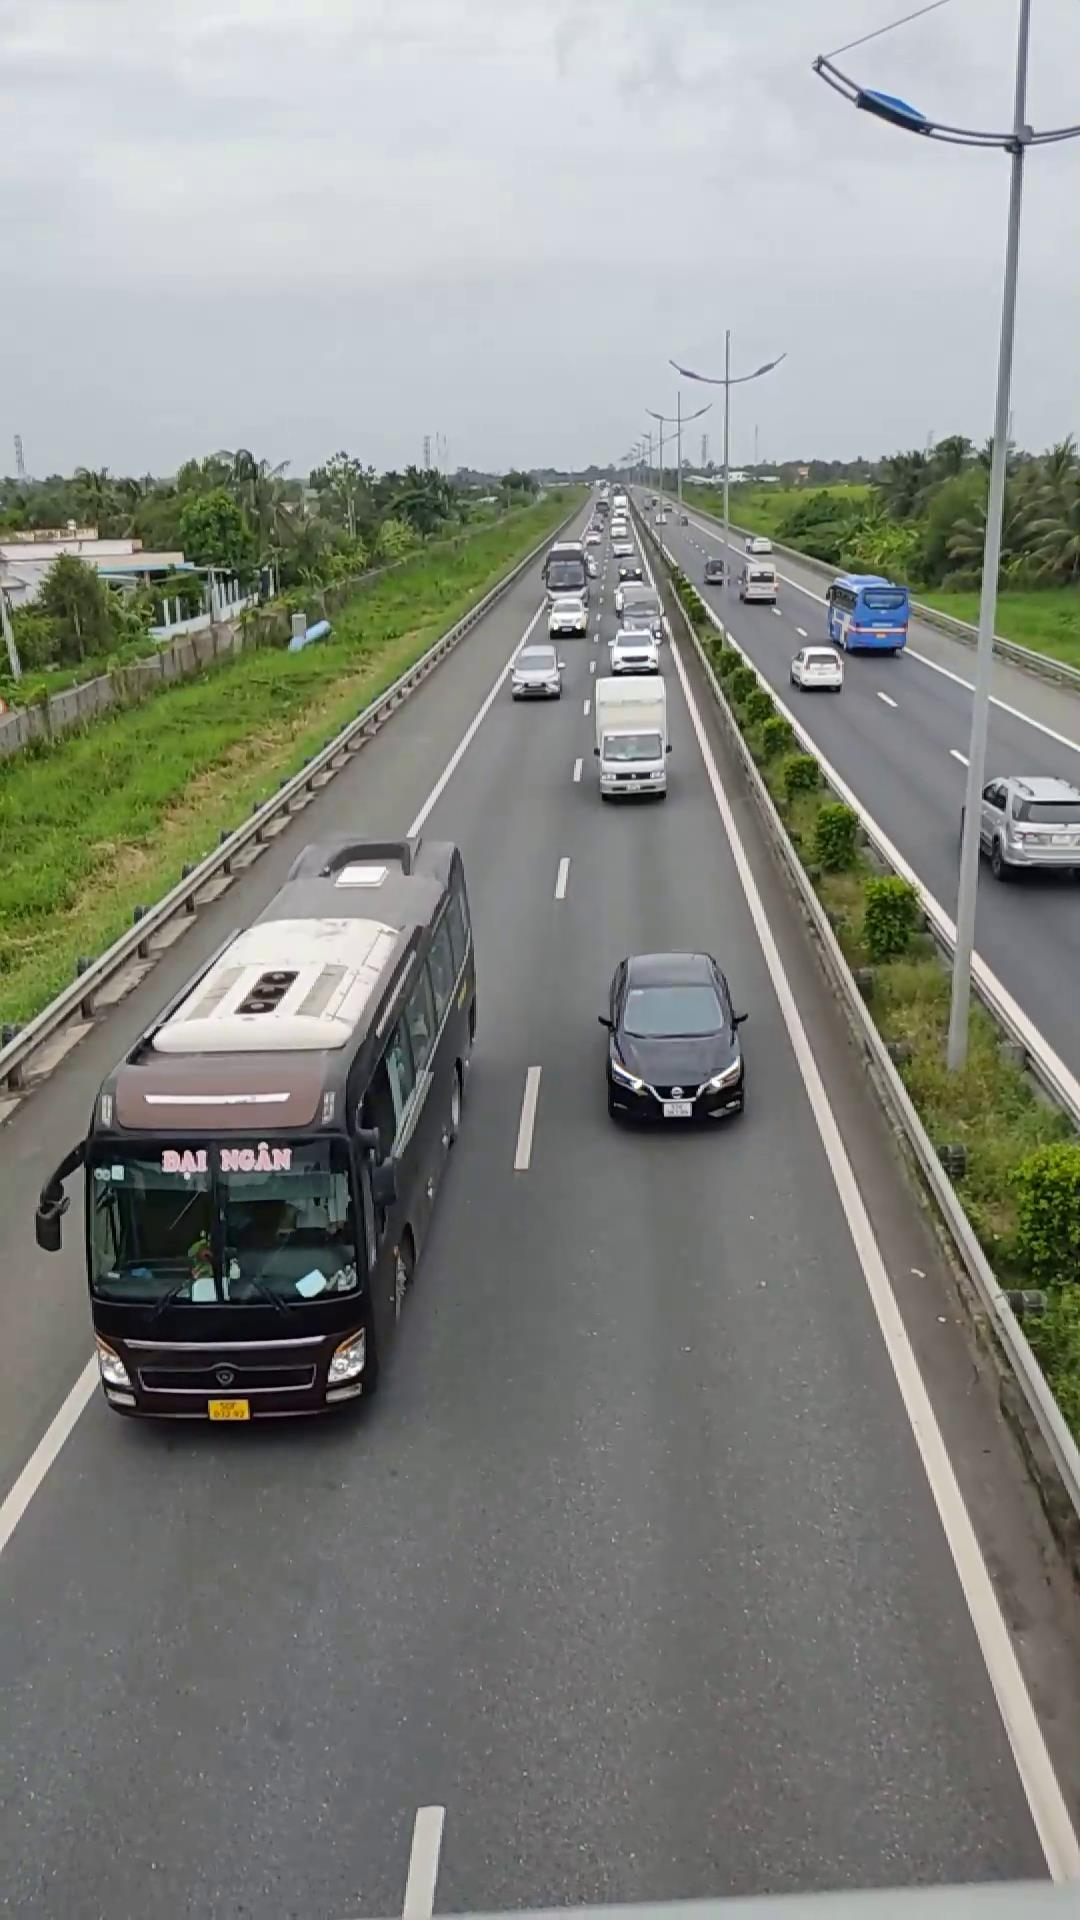bus: (69, 845, 479, 1421)
car: (598, 950, 747, 1127), (966, 741, 1079, 882)
